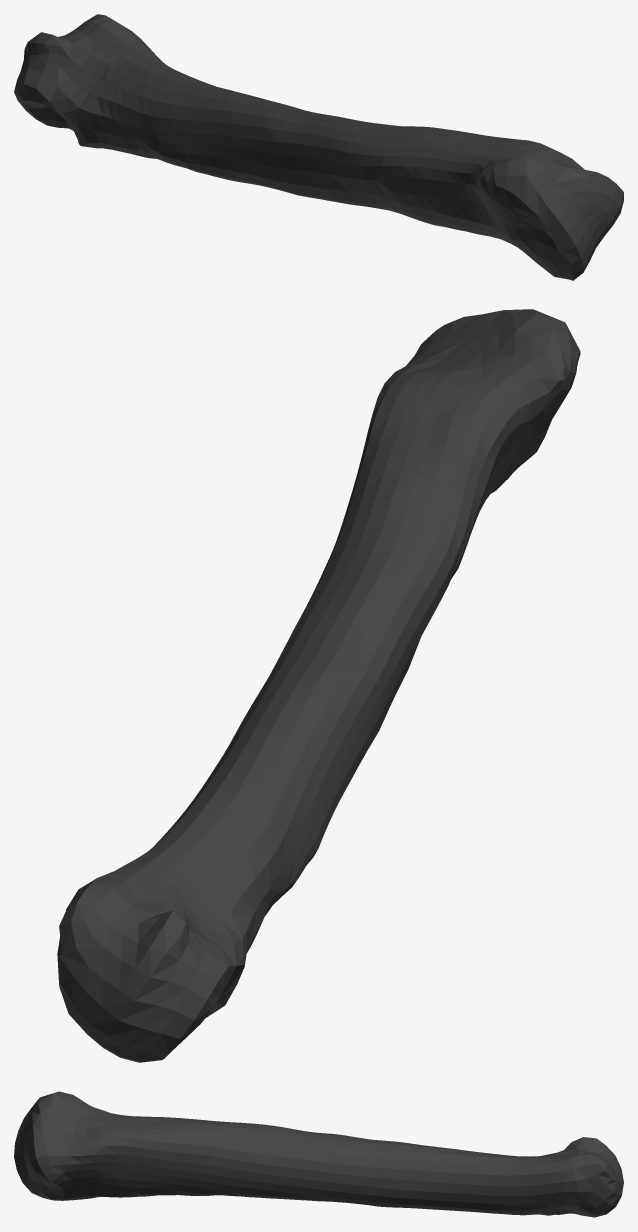
File: Metacarpal_V.glb
3 renders of one model, top to bottom at view 1: azimuth 30°, elevation 25°; view 2: azimuth 150°, elevation 25°; view 3: azimuth 270°, elevation 25°, orthographic. The views are drawn at different scales.
Parts seen in each view (by area): view 1: Metacarpal_V; view 2: Metacarpal_V; view 3: Metacarpal_V.
Part boxes in pixels (left/top/right/bottom): Metacarpal_V: left=14, top=14, right=623, bottom=280; Metacarpal_V: left=57, top=309, right=580, bottom=1062; Metacarpal_V: left=14, top=1091, right=623, bottom=1217.
Size of the model in its own units: 0.309 by 0.2719 by 0.9593.
1 material, 1 textured.
